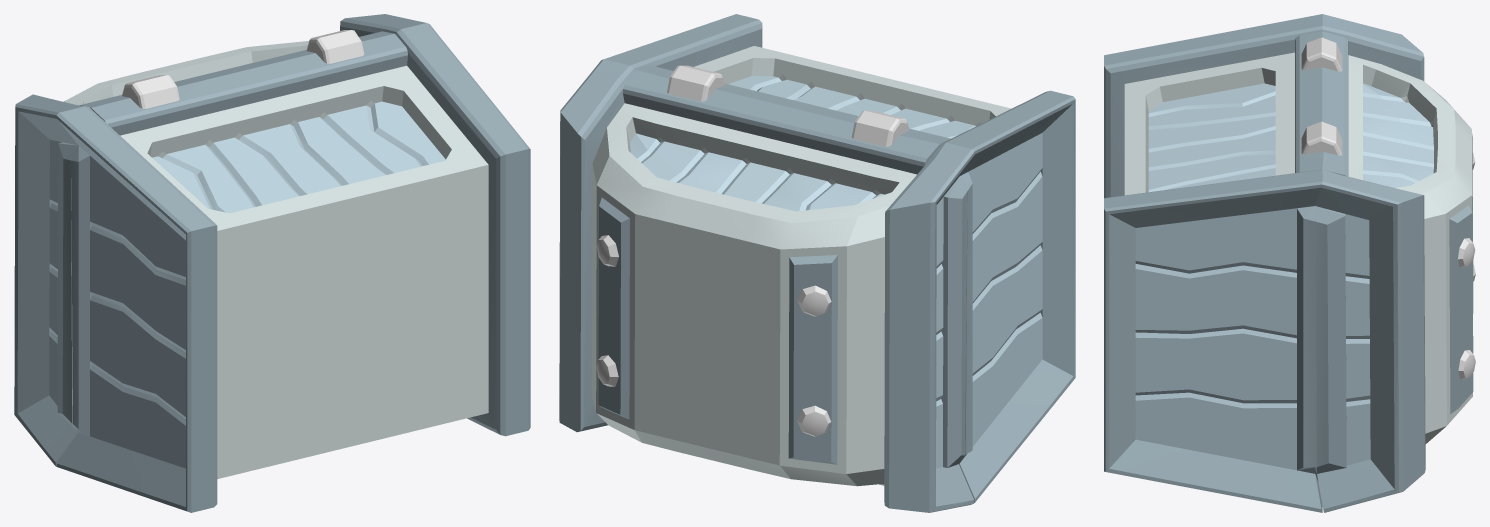
The model's file is NormalChest.fbx.
3 views of the same model, side by side, from view 1: azimuth 30°, elevation 25°; view 2: azimuth 150°, elevation 25°; view 3: azimuth 270°, elevation 25° (orthographic). The views are drawn at different scales.
Visible parts, largest first — view 1: Treasure_Chest_1c, Opened_13; view 2: Opened_13, Treasure_Chest_1c; view 3: Treasure_Chest_1c, Opened_13.
Part boxes in pixels (box(x1,y1,x2,y2)): Treasure_Chest_1c: box(56, 23, 530, 512); Opened_13: box(14, 14, 425, 466); Opened_13: box(559, 59, 974, 512); Treasure_Chest_1c: box(604, 14, 1075, 502); Treasure_Chest_1c: box(1104, 14, 1342, 512); Opened_13: box(1315, 14, 1475, 512).
Bounding box in the file's own units: 62.81 × 58.72 × 57.8.
